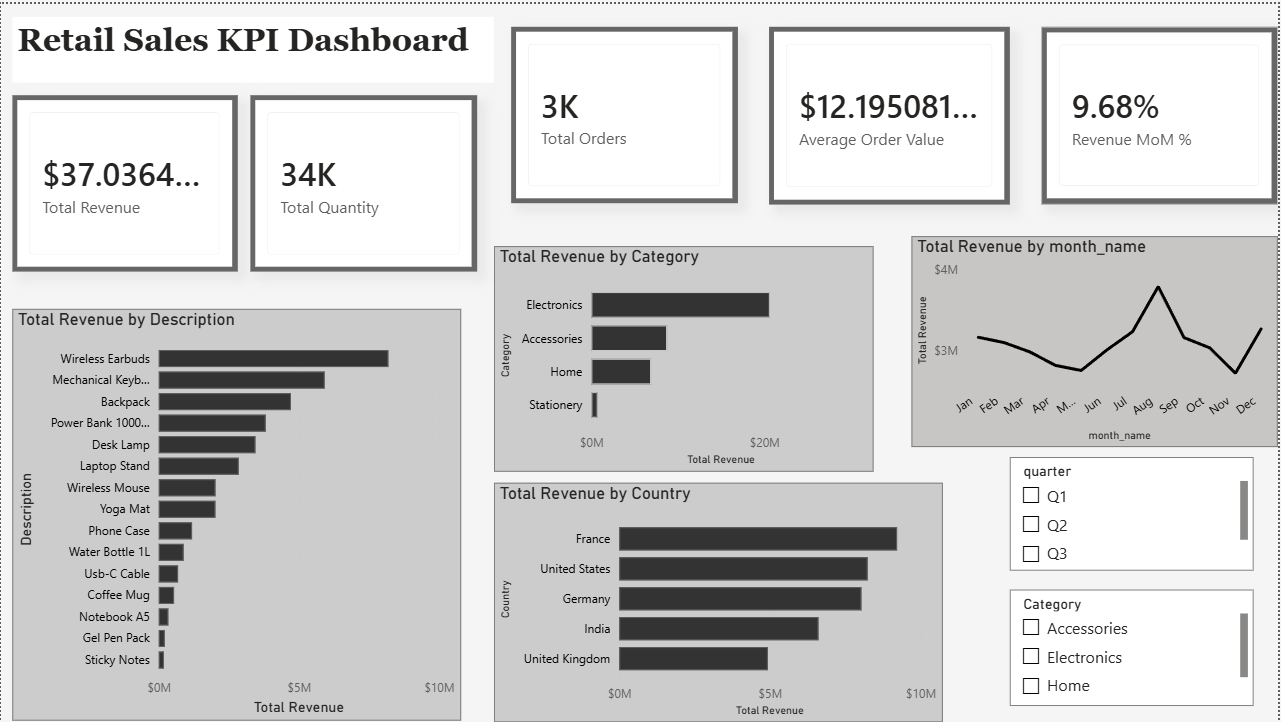

What the dashboard file says about the page in this screenshot:
{"tool":"powerbi","page":{"name":"Page 1","canvas":[1280,720],"ordinal":0},"visuals":[{"type":"cardVisual","fields":{"Data":["fact_sales.Total Revenue"]},"box":[11.4,91.4,225.7,177.1],"z":0},{"type":"cardVisual","fields":{"Data":["fact_sales.Total Quantity"]},"box":[250,91.4,227.1,177.1],"z":1000},{"type":"cardVisual","fields":{"Data":["fact_sales.Total Orders"]},"box":[511.4,22.9,227.1,177.1],"z":2000},{"type":"cardVisual","fields":{"Data":["fact_sales.Average Order Value"]},"box":[770,22.9,241.4,178.6],"z":3000},{"type":"clusteredBarChart","fields":{"Category":["dim_product.Category"],"Y":["fact_sales.Total Revenue"]},"box":[494.3,242.9,380,225.7],"z":4000},{"type":"lineChart","fields":{"Category":["dim_date.month_name"],"Y":["fact_sales.Total Revenue"]},"box":[912.9,232.9,367.1,211.4],"z":5000},{"type":"clusteredBarChart","fields":{"Y":["fact_sales.Total Revenue"],"Category":["dim_product.Description"]},"box":[11.4,305.7,450,412.9],"z":6000},{"type":"clusteredBarChart","fields":{"Category":["dim_customer.Country"],"Y":["fact_sales.Total Revenue"]},"box":[494.3,480,450,240],"z":7000},{"type":"cardVisual","fields":{"Data":["fact_sales.Revenue MoM %"]},"box":[1042.9,22.9,237.1,178.6],"z":8000},{"type":"slicer","fields":{"Values":["dim_product.Category"]},"box":[1011.1,586.7,244.4,116.7],"z":9000},{"type":"slicer","fields":{"Values":["dim_date.quarter"]},"box":[1011.1,454.4,244.4,113.3],"z":10000},{"type":"textbox","box":[11.4,12.9,482.9,65.7],"z":11000}]}

Visuals, with their boxes in screenshot pixels (x1, y1, x2, y2), scaled from the page's 1280x720 canvas onto the 1281x722 screenshot:
cardVisual - fact_sales.Total Revenue: bbox(11, 92, 237, 269)
cardVisual - fact_sales.Total Quantity: bbox(250, 92, 477, 269)
cardVisual - fact_sales.Total Orders: bbox(512, 23, 739, 201)
cardVisual - fact_sales.Average Order Value: bbox(771, 23, 1012, 202)
clusteredBarChart - dim_product.Category x fact_sales.Total Revenue: bbox(495, 244, 875, 470)
lineChart - dim_date.month_name x fact_sales.Total Revenue: bbox(914, 234, 1280, 446)
clusteredBarChart - fact_sales.Total Revenue x dim_product.Description: bbox(11, 307, 462, 721)
clusteredBarChart - dim_customer.Country x fact_sales.Total Revenue: bbox(495, 481, 945, 721)
cardVisual - fact_sales.Revenue MoM %: bbox(1044, 23, 1280, 202)
slicer - dim_product.Category: bbox(1012, 588, 1256, 705)
slicer - dim_date.quarter: bbox(1012, 456, 1256, 569)
textbox: bbox(11, 13, 495, 79)
